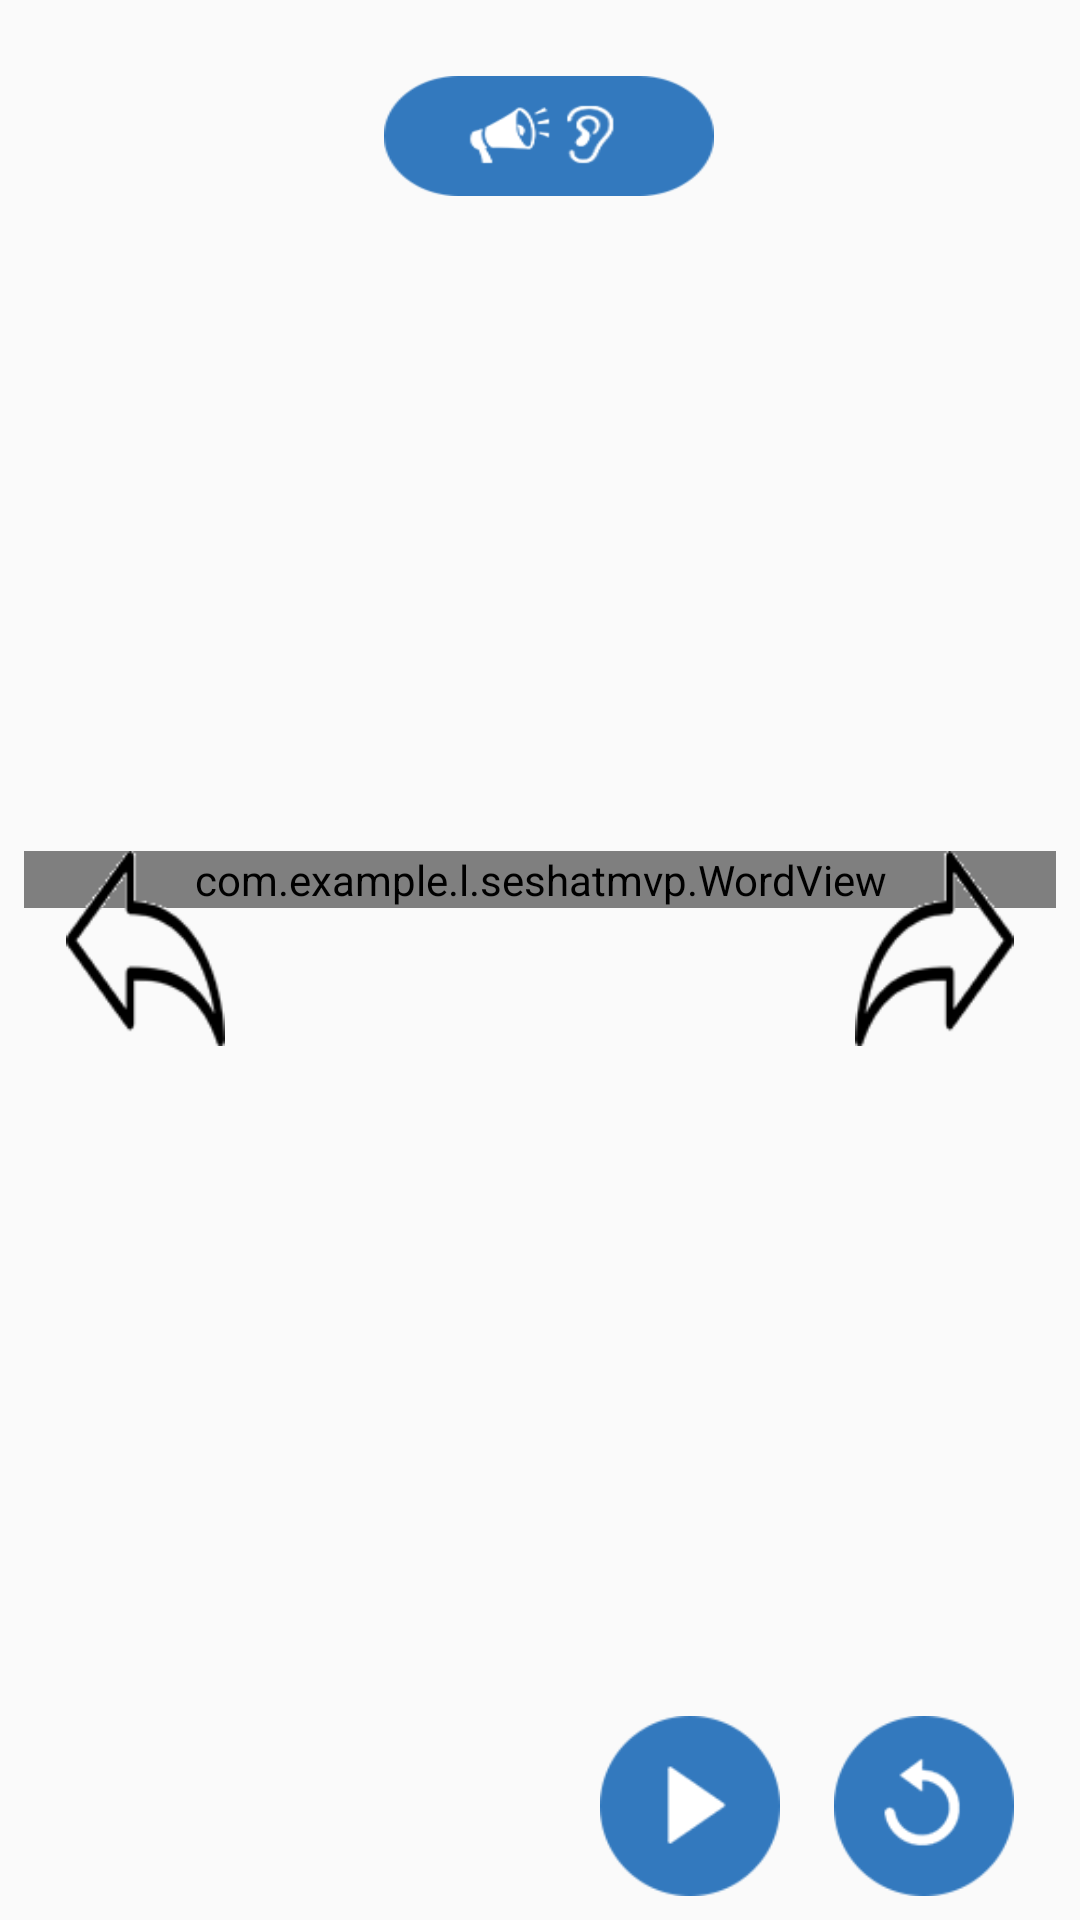

Where to tap for icons on this 1080px×1920px app screen, as [x,y]:
mike voice: [549,136]
next: [934,948]
previous: [145,948]
repeat: [924,1806]
